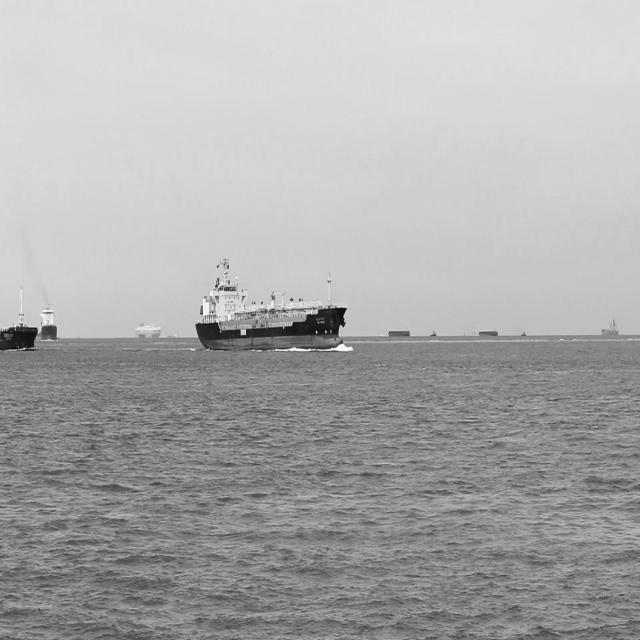ship: (193, 254, 349, 353), (0, 280, 40, 352), (40, 300, 60, 341), (133, 322, 160, 341), (601, 316, 622, 340)
